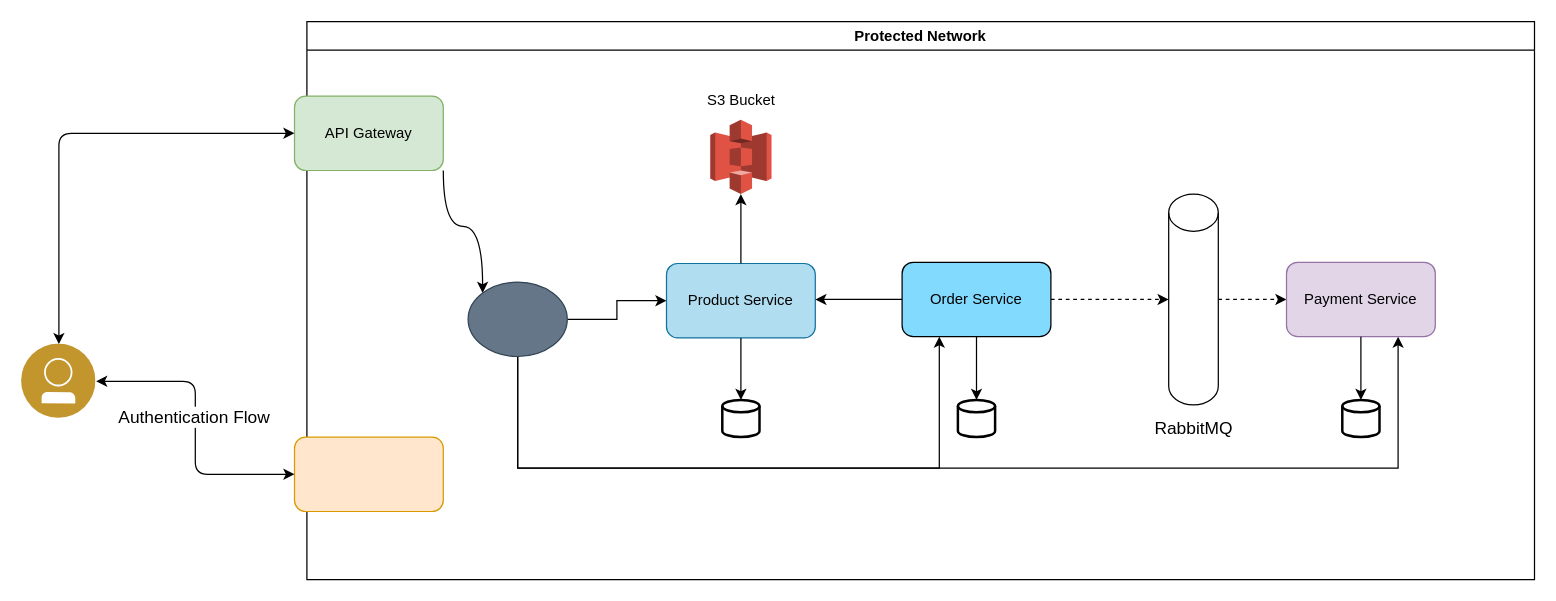
Image size: 1556x601. Some labels were removed from this diagram. Here are the shapes that lost their labels. From the top down, the box of each, then its label:
(467, 281, 567, 356): Eureka Service Registry
(293, 436, 443, 512): OpenID Provider Connect (Keycloak)
